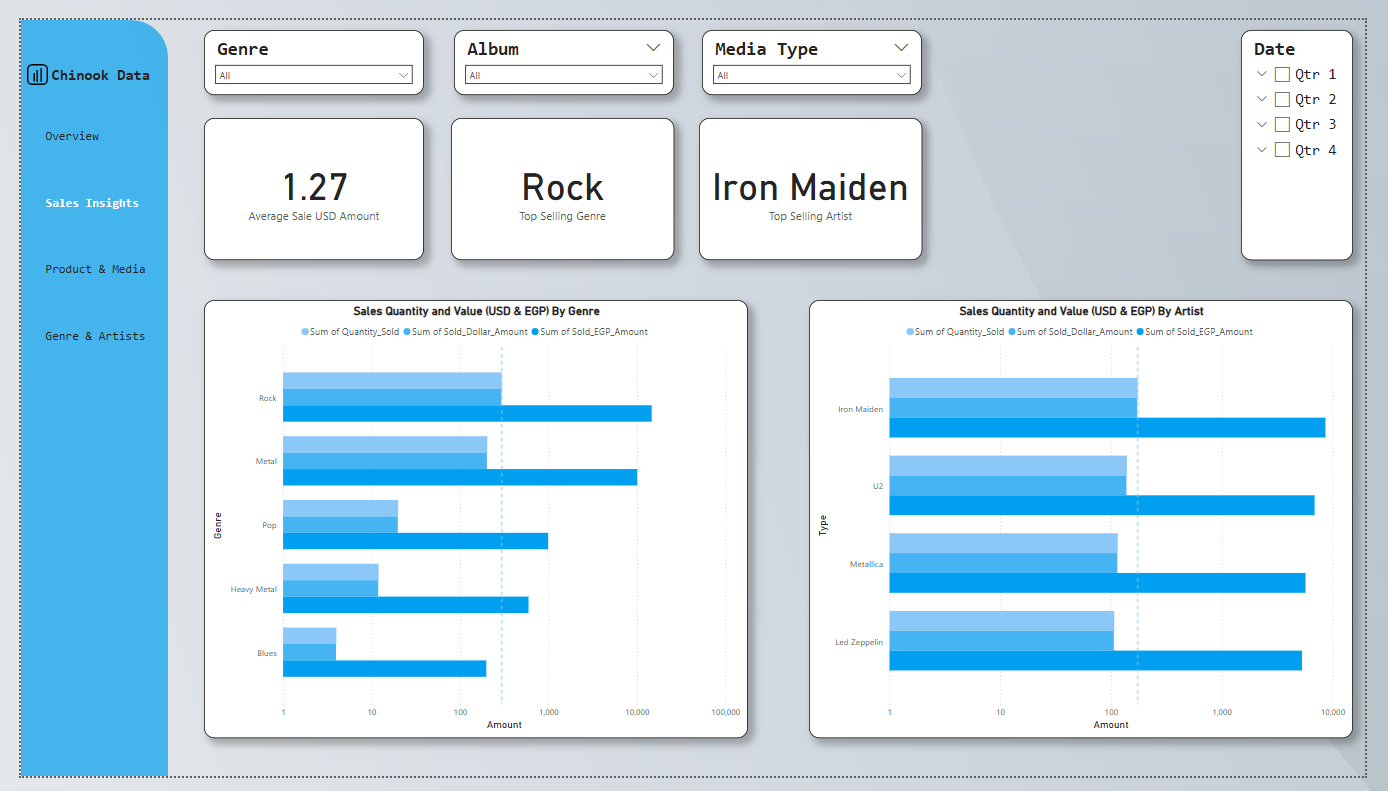

This screenshot's page, from the dashboard's own definition file:
{"tool":"powerbi","page":{"name":"Sales Insights","canvas":[1920,1080],"ordinal":1},"visuals":[{"type":"shape","box":[0,0,210,1080],"z":0},{"type":"shape","box":[12.7,75.8,12,12],"z":1000},{"type":"shape","box":[8.7,62.8,30,30],"z":2000},{"type":"shape","box":[17.7,70.8,12,17.2],"z":3000},{"type":"shape","box":[23,68,12,20.3],"z":4000},{"type":"textbox","box":[38.6,60,171.4,40],"z":5000},{"type":"slicer","fields":{"Values":["Dim_Date.FullDate.Variation.Date Hierarchy.Quarter","Dim_Date.FullDate.Variation.Date Hierarchy.Month"]},"box":[1742.9,14.3,160,328.6],"z":6000},{"type":"pageNavigator","box":[0,122.9,210,371.4],"z":7000},{"type":"card","fields":{"Values":["Avg(Sales_Analysis_Fact_Table_New.Sold_Dollar_Amount)"]},"box":[261.4,140,314.3,202.9],"z":8000},{"type":"clusteredBarChart","title":"Sales Quantity and Value (USD & EGP) By Genre","fields":{"Y":["Sum(Sales_Analysis_Fact_Table_New.Quantity_Sold)","Sum(Sales_Analysis_Fact_Table_New.Sold_Dollar_Amount)","Sum(Sales_Analysis_Fact_Table_New.Sold_EGP_Amount)"],"Category":["Genre.Name"]},"box":[261.4,400,777.1,625.7],"z":9000},{"type":"clusteredBarChart","title":"Sales Quantity and Value (USD & EGP) By Artist","fields":{"Y":["Sum(Sales_Analysis_Fact_Table_New.Quantity_Sold)","Sum(Sales_Analysis_Fact_Table_New.Sold_Dollar_Amount)","Sum(Sales_Analysis_Fact_Table_New.Sold_EGP_Amount)"],"Category":["Artist.Name"]},"box":[1125.7,400,777.1,625.7],"z":10000},{"type":"card","fields":{"Values":["Min(Genre.Name)"]},"box":[614.3,140,318.6,202.9],"z":11000},{"type":"card","fields":{"Values":["Min(Artist.Name)"]},"box":[968.6,140,318.6,202.9],"z":12000},{"type":"slicer","fields":{"Values":["Genre.Name"]},"box":[261.6,13.9,313.8,92.5],"z":14000},{"type":"slicer","fields":{"Values":["Album.Title"]},"box":[617.9,13.9,313.8,92.5],"z":15000},{"type":"slicer","fields":{"Values":["MediaType.Name"]},"box":[972.9,13.9,313.8,92.5],"z":16000}]}

Visuals, with their boxes in screenshot pixels (x1, y1, x2, y2), scaled from the page's 1920x1080 canvas onto the 1388x791 screenshot:
shape: region(0, 0, 152, 790)
shape: region(9, 56, 18, 64)
shape: region(6, 46, 28, 68)
shape: region(13, 52, 21, 64)
shape: region(17, 50, 25, 65)
textbox: region(28, 44, 152, 73)
slicer - Dim_Date.FullDate.Variation.Date Hierarchy.Quarter x Dim_Date.FullDate.Variation.Date Hierarchy.Month: region(1260, 10, 1376, 251)
pageNavigator: region(0, 90, 152, 362)
card - Avg(Sales_Analysis_Fact_Table_New.Sold_Dollar_Amount): region(189, 103, 416, 251)
"Sales Quantity and Value (USD & EGP) By Genre" clusteredBarChart: region(189, 293, 751, 751)
"Sales Quantity and Value (USD & EGP) By Artist" clusteredBarChart: region(814, 293, 1376, 751)
card - Min(Genre.Name): region(444, 103, 674, 251)
card - Min(Artist.Name): region(700, 103, 931, 251)
slicer - Genre.Name: region(189, 10, 416, 78)
slicer - Album.Title: region(447, 10, 674, 78)
slicer - MediaType.Name: region(703, 10, 930, 78)
